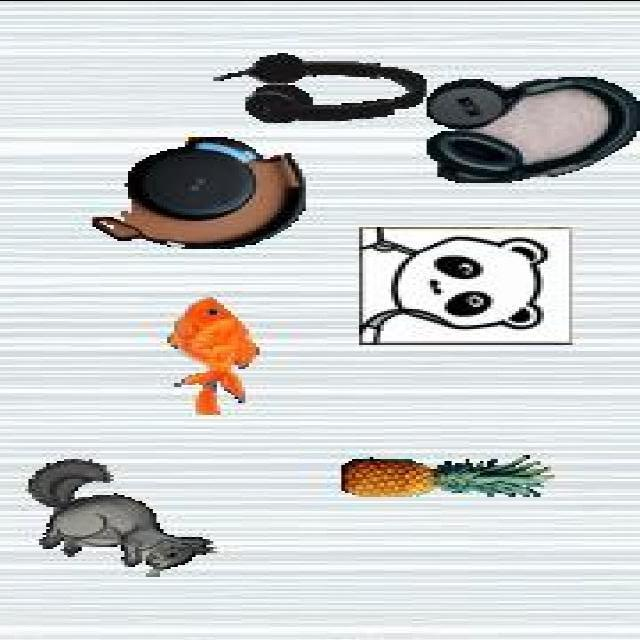Other Objects: (92, 135, 308, 249), (426, 76, 640, 183), (212, 53, 426, 123)
